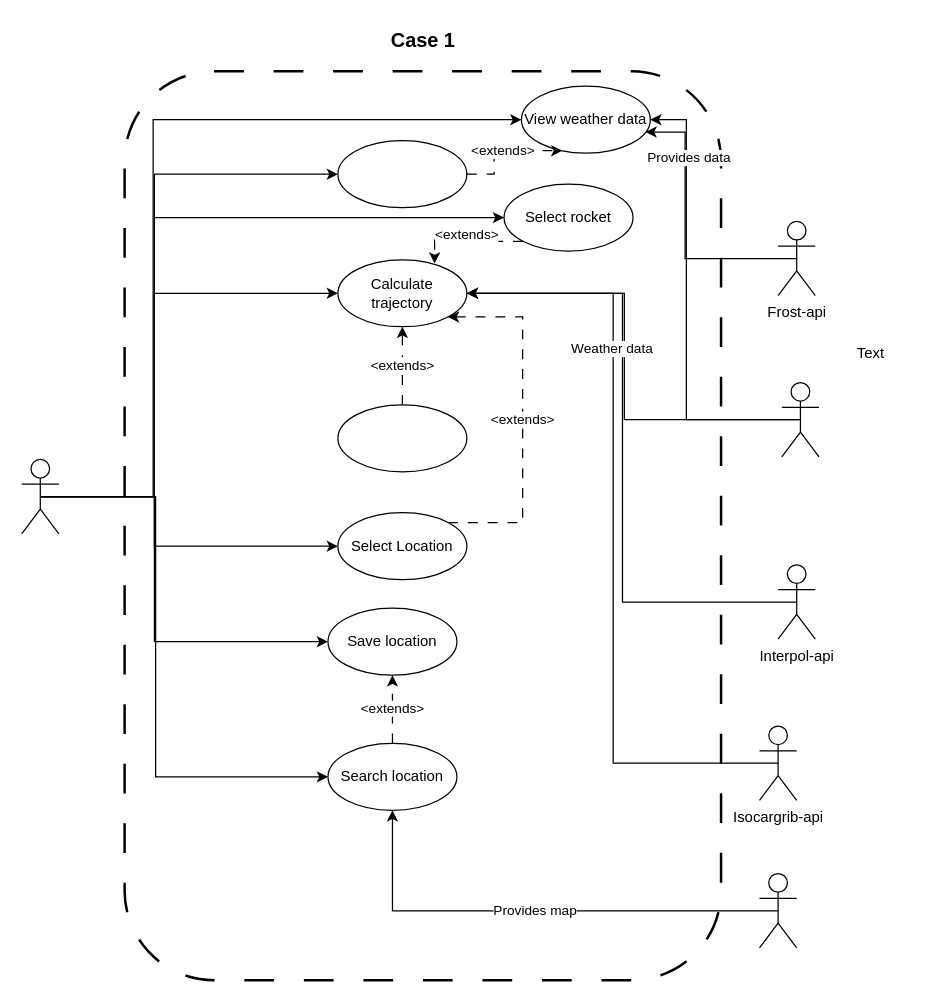
The diagram is 930 pixels wide and 1002 high, and some of its shapes have lost their labels. The centre of each missing label's shape, as x and y in pixels:
"Check rocket launch viability" goes at point (402, 174).
"Configure rocket" goes at point (402, 438).
"LocationForecast-api" goes at point (800, 419).
"Mapbox" goes at point (777, 910).
"User" goes at point (39, 496).
